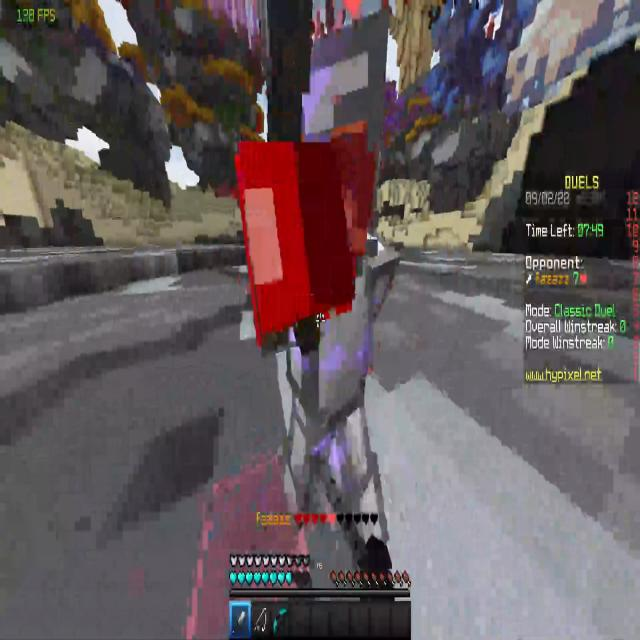Player: (228, 0, 425, 564)
